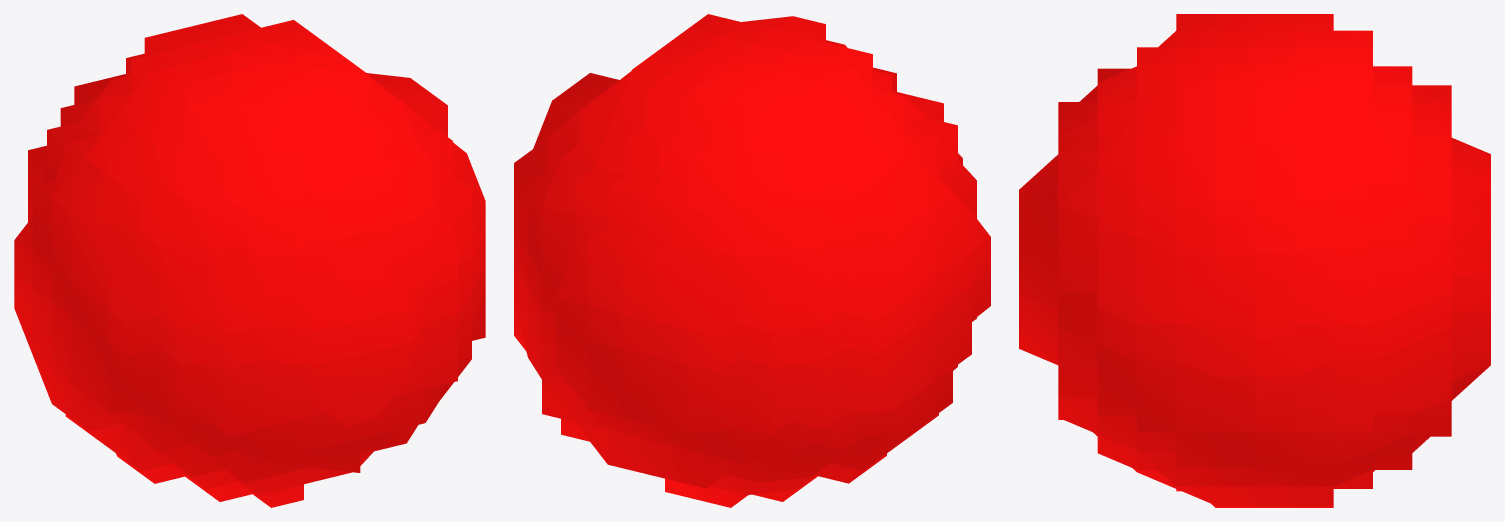
3 renders of one model, left to right at view 1: azimuth 30°, elevation 25°; view 2: azimuth 150°, elevation 25°; view 3: azimuth 270°, elevation 25°, orthographic. The views are drawn at different scales.
Bounding box in the file's own units: 3 × 3 × 3.
